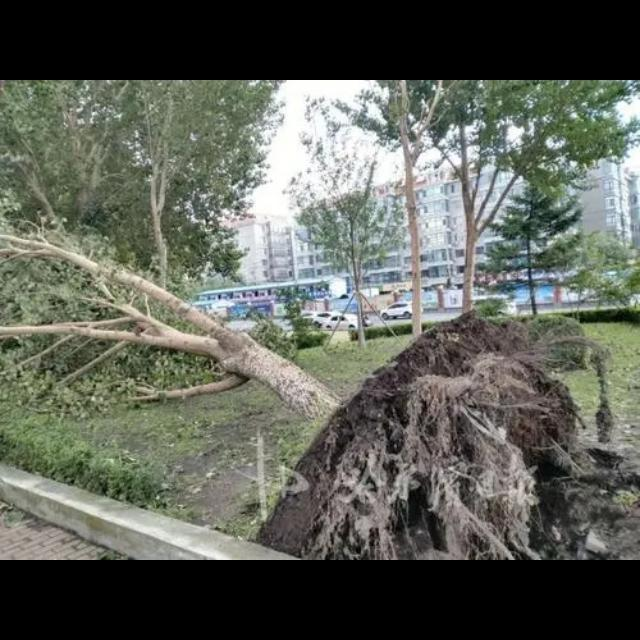fallen_tree: (2, 200, 410, 492)
